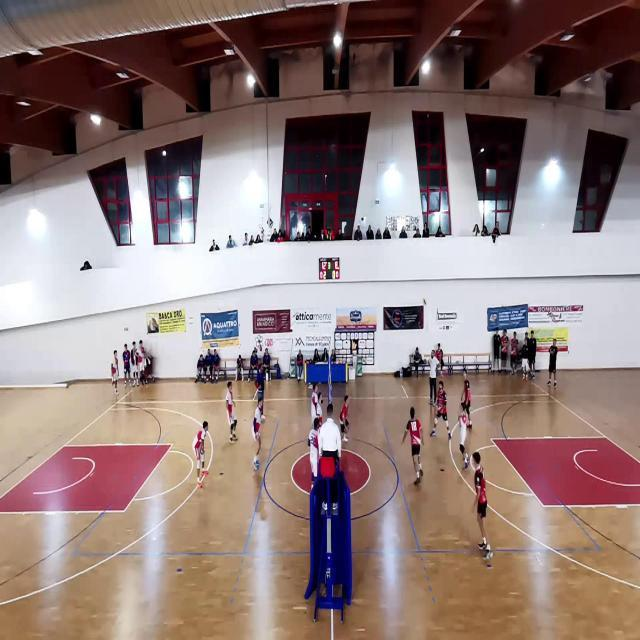volleyball: (422, 297, 428, 305)
